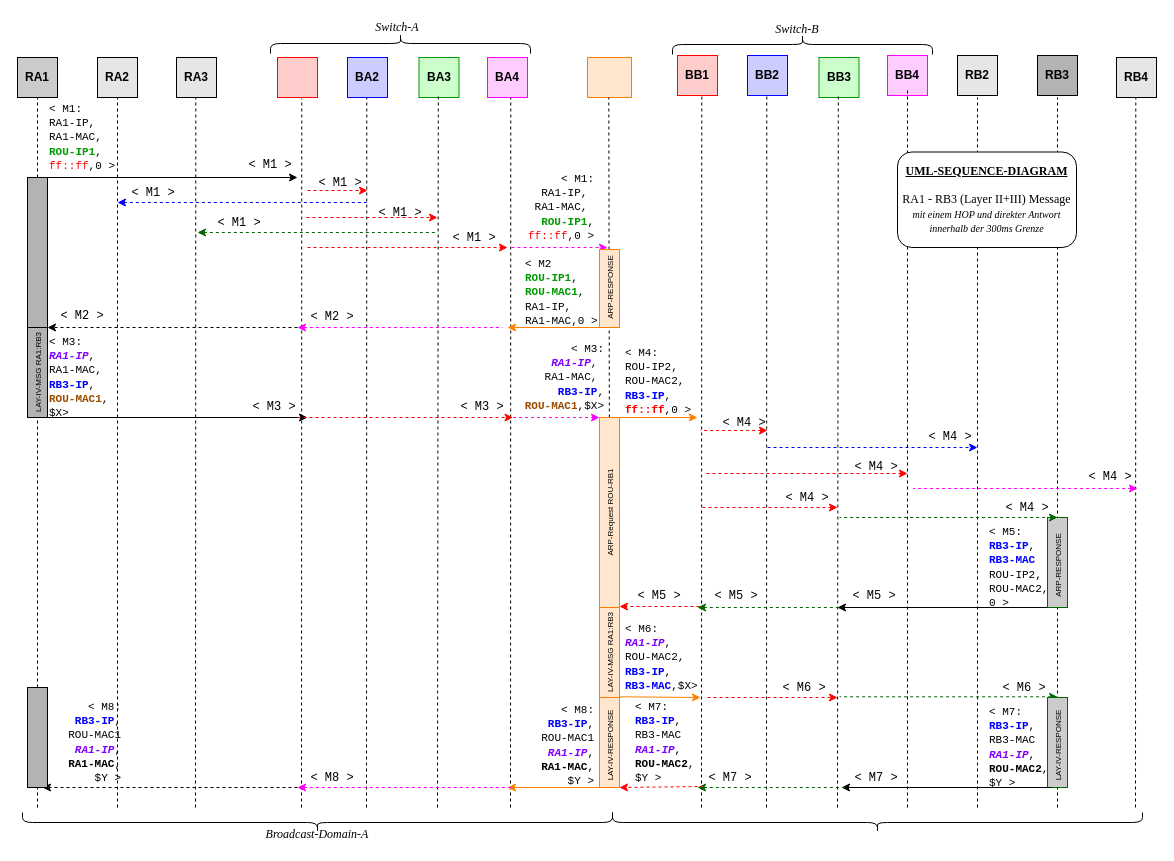
Image size: 1174x861. Some labels were removed from this diagram. The shapes that lost their labels are listed below. From the top down, each one's centre as x and y in pixels, then its label:
At point 297,77: "BA1".
At point 609,77: "ROU".
At point 37,252: "ARP-Request RA1:ROU".
At point 37,737: "LAY-IV-RESPON:RB3-RA1".
At point 877,822: "Broadcast-Domain-B".
